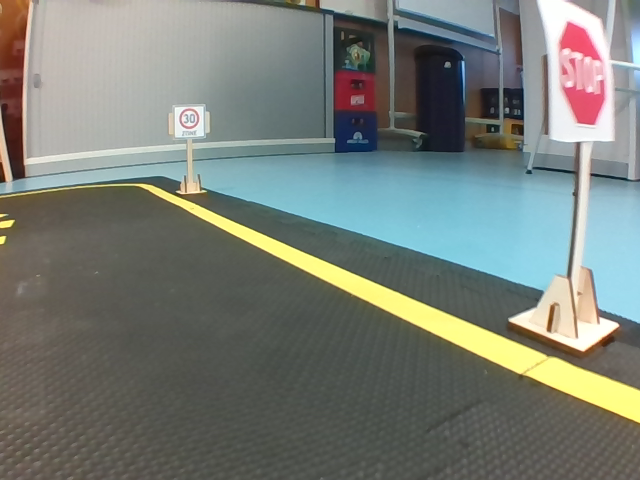30: (174, 106, 204, 136)
stop: (540, 1, 614, 143)
